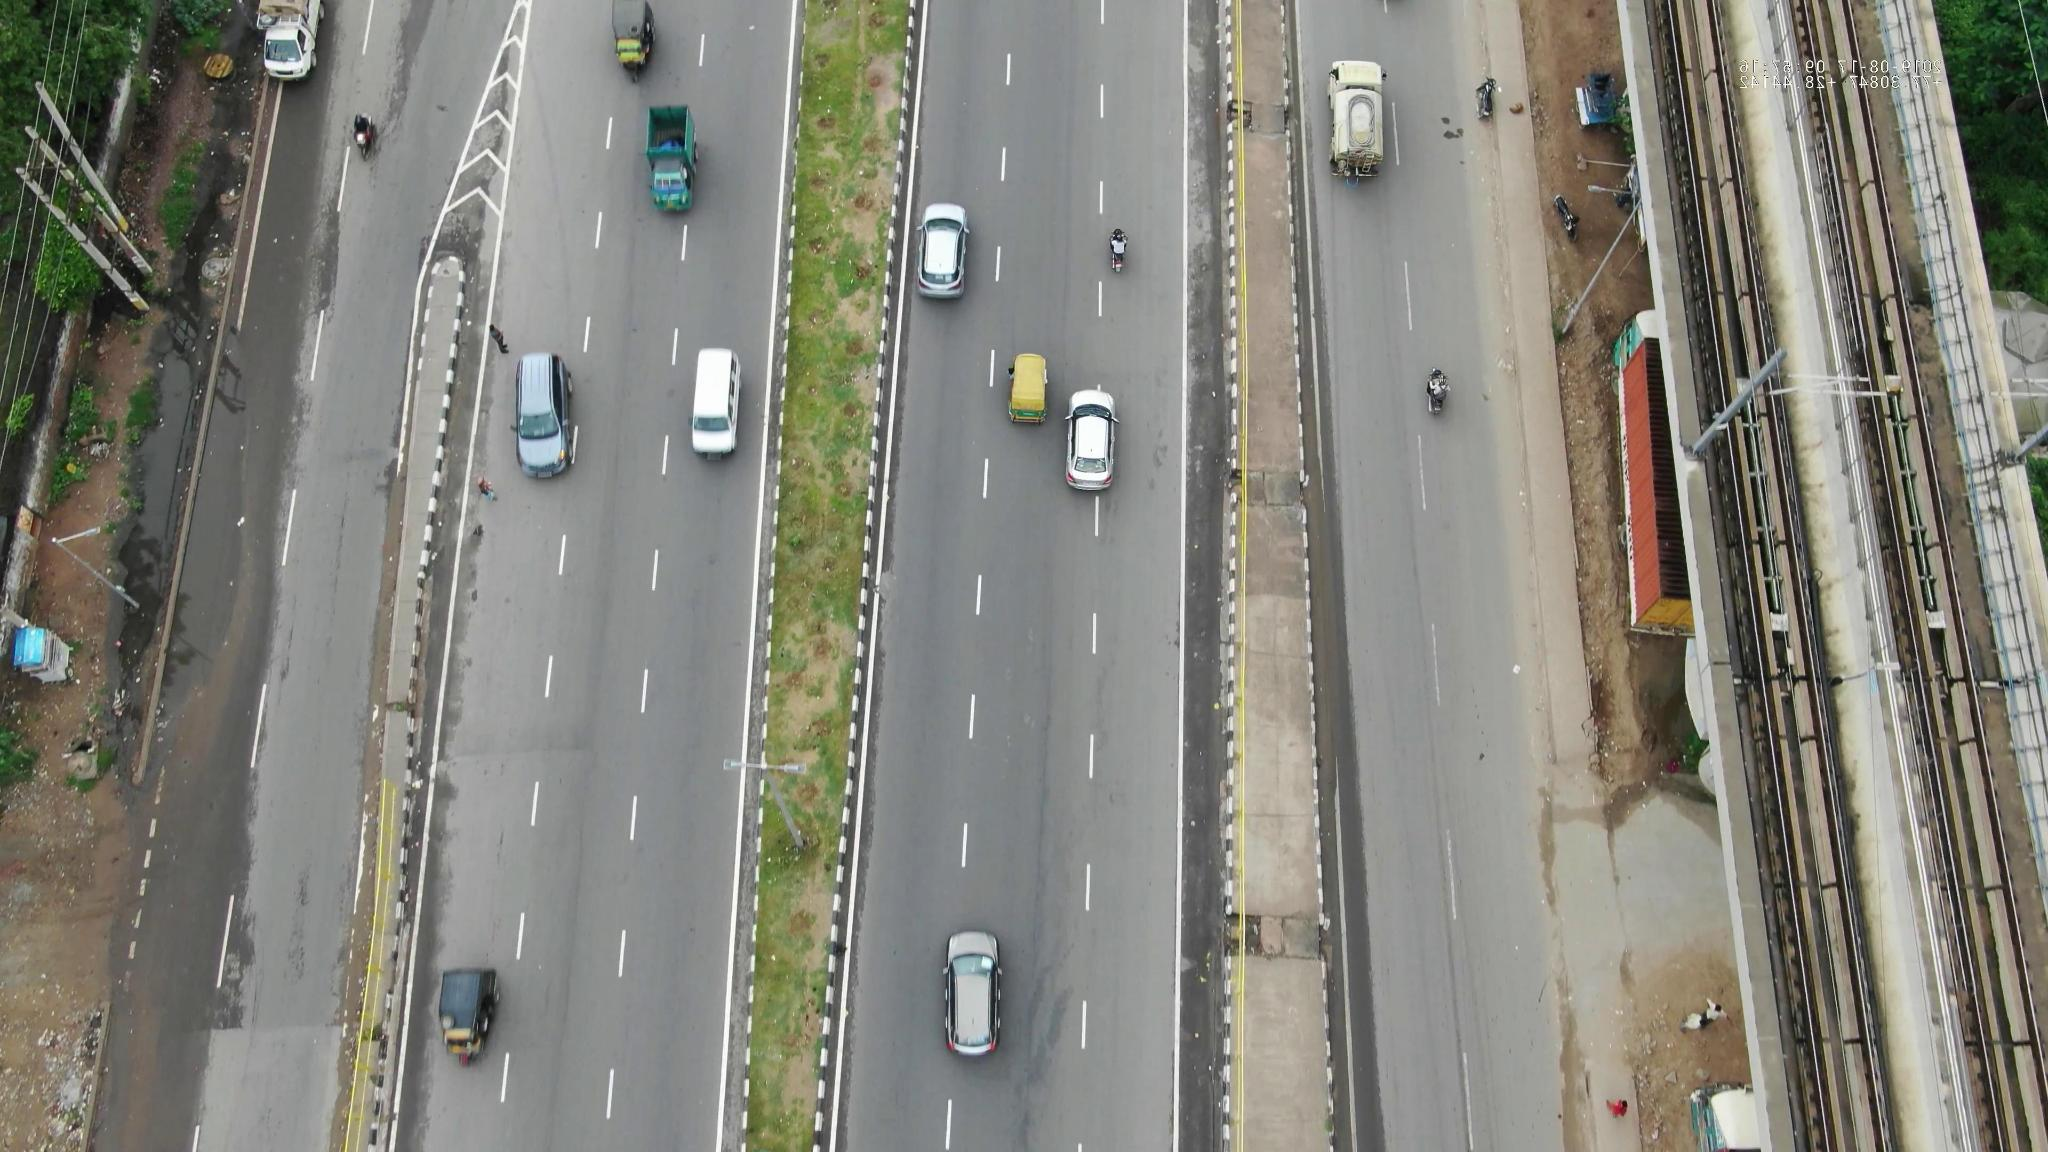Waterlogging: (90, 331, 256, 715)
